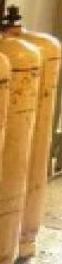cylinder: (0, 1, 62, 264)
